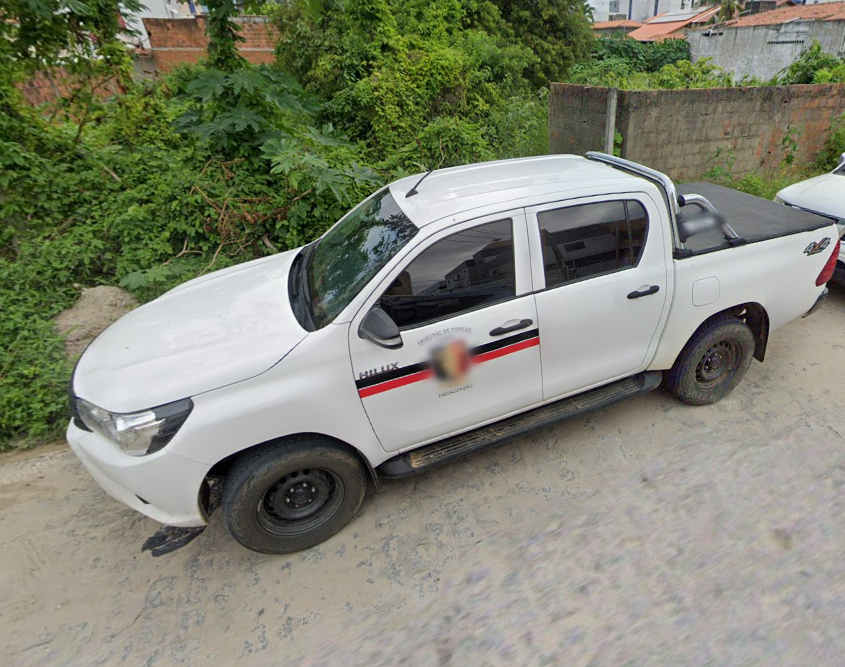car: (60, 145, 841, 557)
